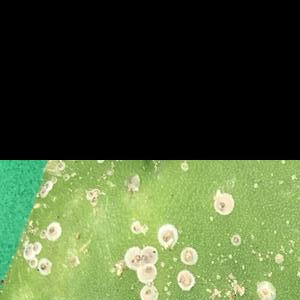Femea: (141, 244, 158, 263), (158, 229, 175, 246), (126, 247, 141, 266), (212, 196, 227, 214), (255, 283, 273, 297), (178, 269, 192, 286), (138, 264, 157, 276), (46, 222, 59, 237), (37, 260, 52, 273), (182, 247, 195, 262), (141, 289, 155, 299), (33, 242, 42, 253), (23, 249, 32, 259), (42, 187, 50, 196), (231, 234, 238, 244), (28, 260, 37, 266), (26, 244, 33, 251), (42, 188, 50, 194)
Linfa: (227, 272, 245, 296), (204, 285, 225, 299), (263, 246, 274, 259), (248, 246, 261, 256), (290, 172, 297, 182), (252, 181, 259, 188), (215, 273, 221, 280), (277, 179, 283, 185), (272, 230, 277, 234), (260, 221, 264, 225)
